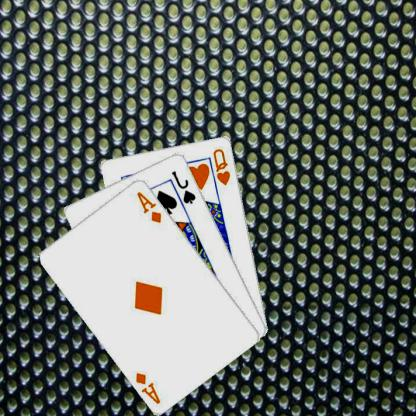AD: (134, 369, 164, 405), (136, 188, 164, 224)
JS: (171, 168, 199, 205)
QH: (212, 146, 234, 186)
